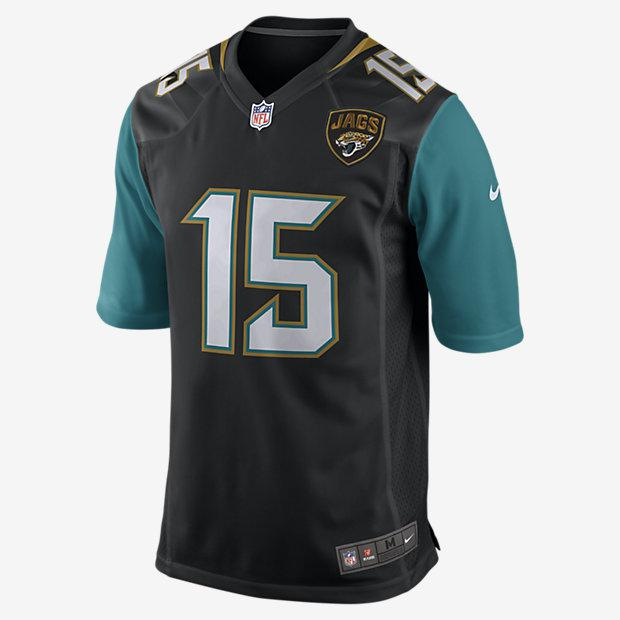teeshirt: (75, 9, 541, 600)
